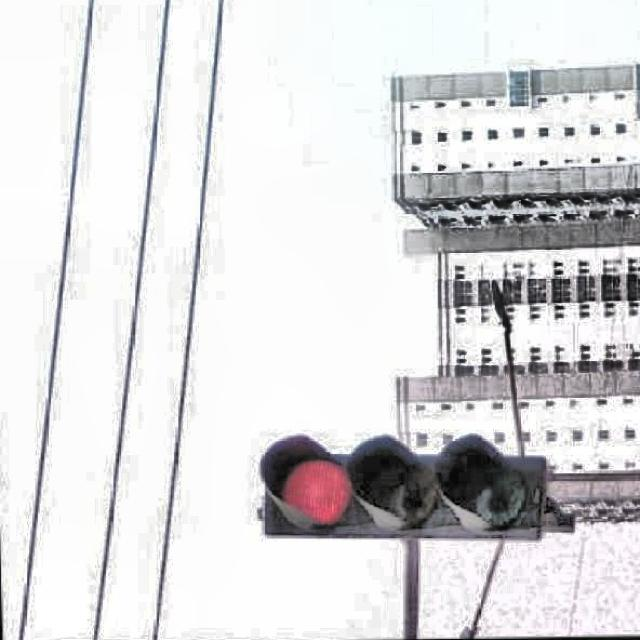red: (256, 436, 555, 549)
